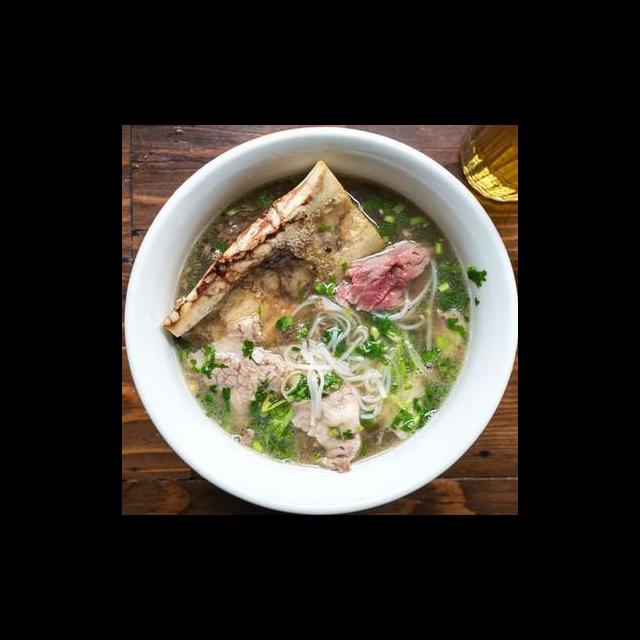banh pho: (268, 290, 392, 421)
pho bo: (122, 153, 518, 515)
thit bo: (176, 308, 293, 432), (331, 235, 436, 319), (284, 375, 368, 477)
